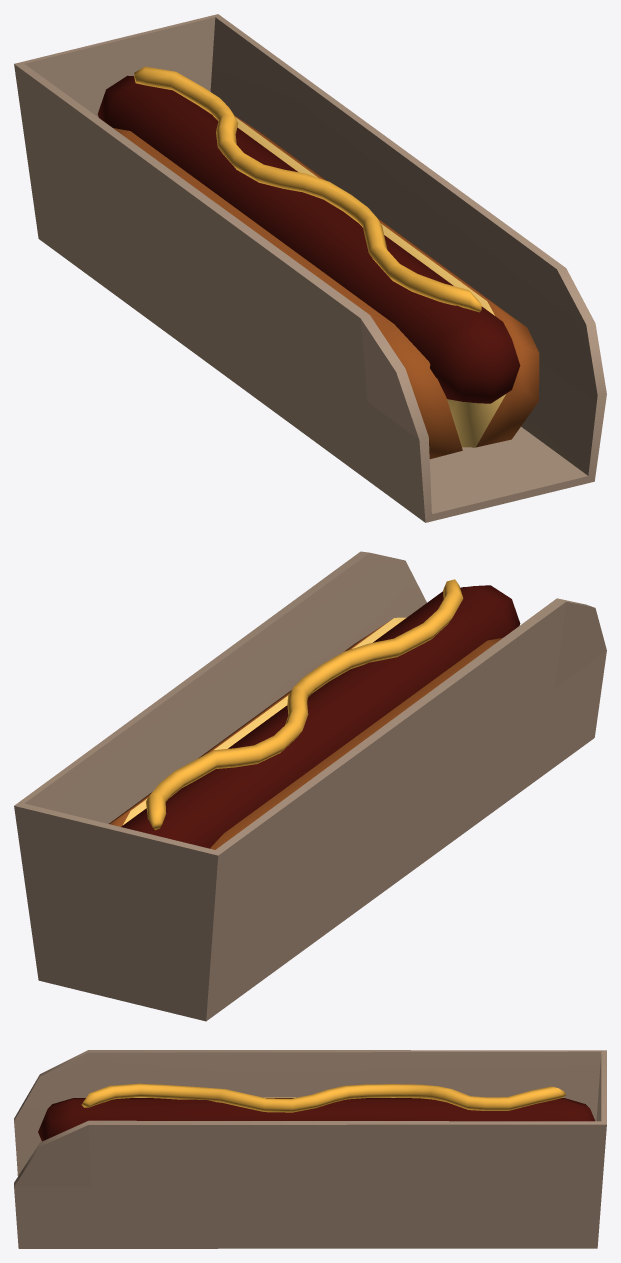
Rendered from Hot Dog.FBX.
3 views of the same model, one above another, from view 1: azimuth 30°, elevation 25°; view 2: azimuth 150°, elevation 25°; view 3: azimuth 270°, elevation 25° (orthographic). The views are drawn at different scales.
Parts seen in each view (by area): view 1: hot dog box, hot dog; view 2: hot dog box, hot dog; view 3: hot dog box, hot dog.
Boxes of the visible parts, x1,y1,x2,y2 form: hot dog box: [14, 14, 606, 522]; hot dog: [97, 66, 539, 459]; hot dog box: [14, 551, 606, 1021]; hot dog: [109, 579, 520, 849]; hot dog box: [14, 1050, 606, 1248]; hot dog: [38, 1083, 594, 1141].
Bounding box in the file's own units: 0.0437 × 0.0358 × 0.1461.
